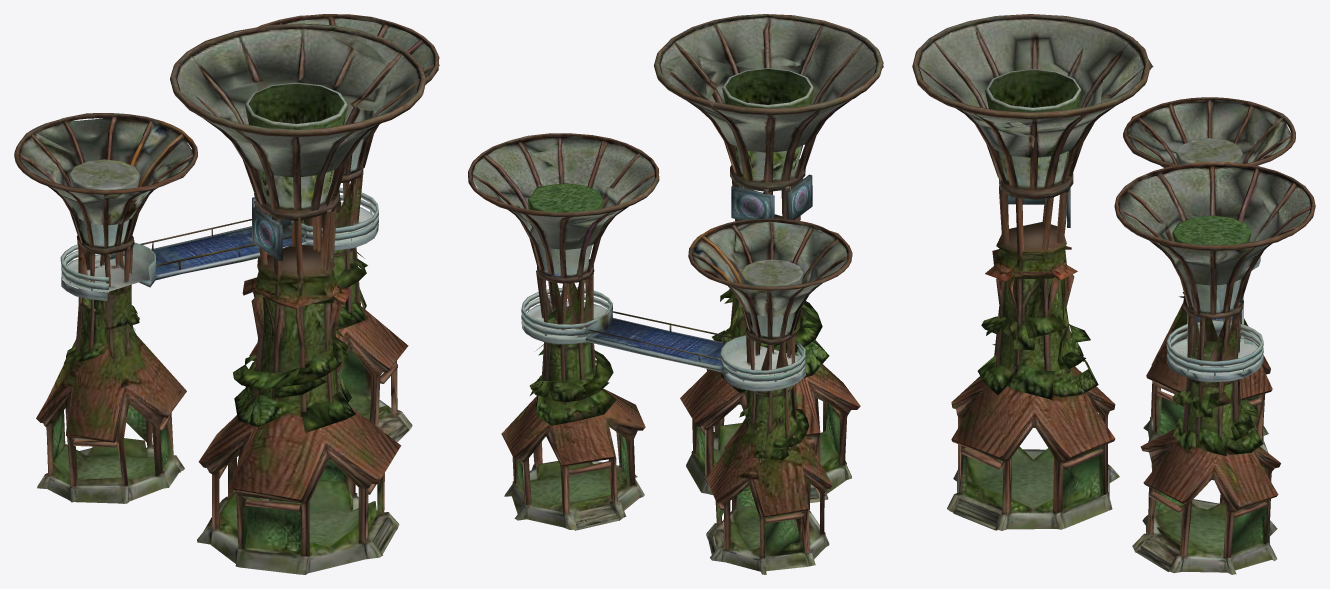
File: lm_supertrees.glb
The picture shows the model from 3 angles, left to right: view 1: azimuth 30°, elevation 25°; view 2: azimuth 150°, elevation 25°; view 3: azimuth 270°, elevation 25°; orthographic projection. The views are drawn at different scales.
Parts seen in each view (by area): view 1: Body; view 2: Body; view 3: Body.
Boxes of the visible parts, x1,y1,x2,y2 form: Body: (14, 14, 439, 574); Body: (468, 14, 883, 574); Body: (912, 14, 1315, 574).
Size of the model in its own units: 27.42 by 30 by 25.42.
1 material, 1 textured.
